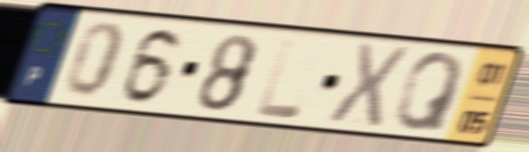0: (62, 18, 129, 104)
6: (120, 25, 186, 107)
8: (196, 31, 260, 114)
L: (254, 35, 305, 122)
Q: (391, 49, 468, 135)
X: (323, 39, 413, 130)
